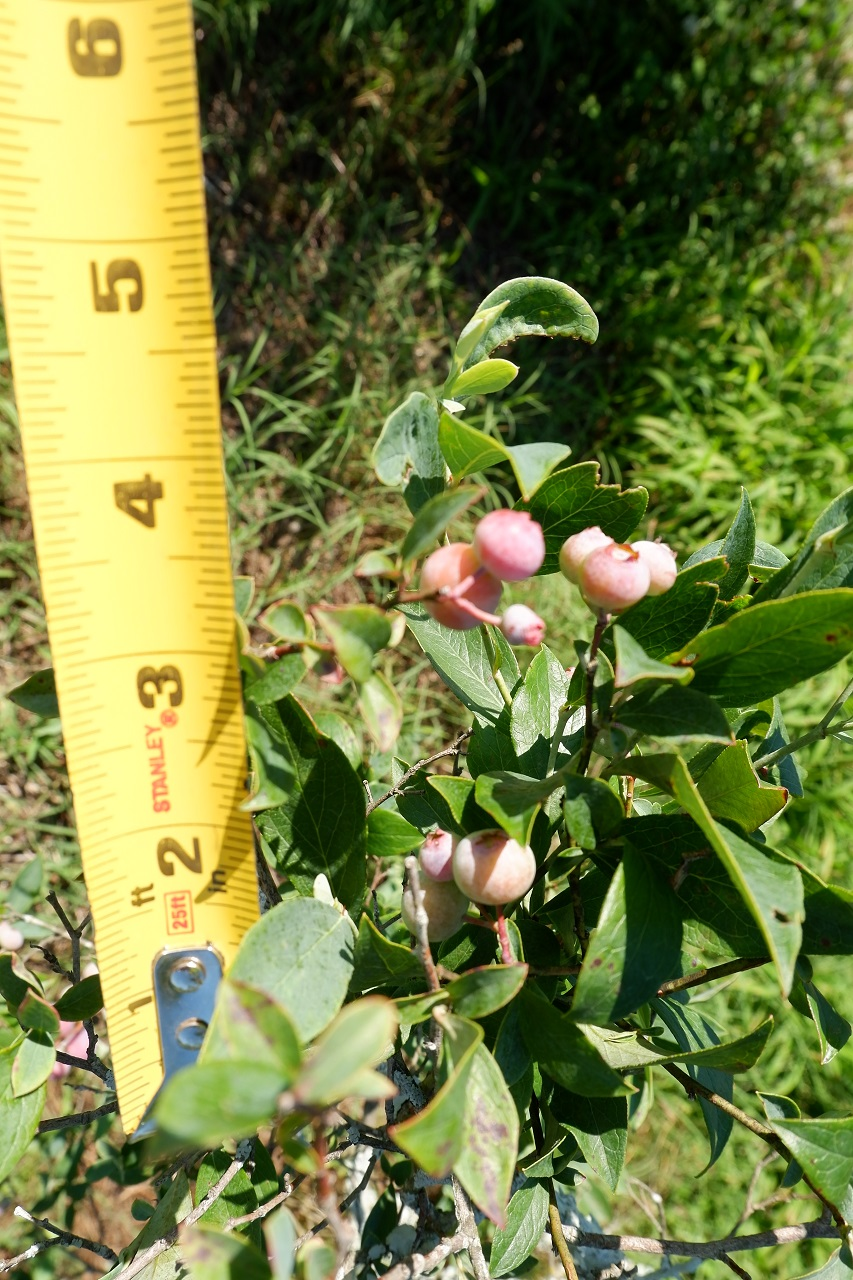Immature: (419, 542, 502, 629), (452, 828, 536, 905), (472, 508, 545, 582), (401, 868, 470, 941), (578, 544, 651, 608), (559, 525, 617, 583), (630, 540, 678, 596), (417, 828, 464, 883), (500, 604, 546, 646)
